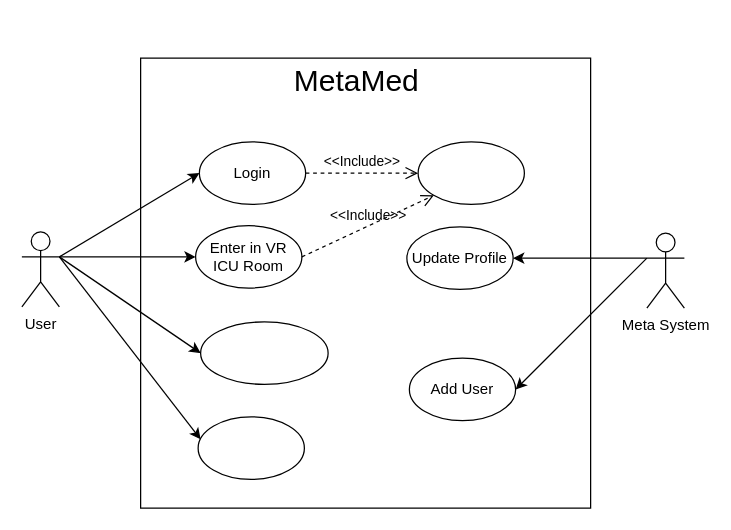
This 731x530 diagram has some shape labels left out. Each missing label, with the box of its shape:
Authentication: (417, 141, 524, 204)
Logout: (197, 416, 304, 479)
Perform Training: (199, 321, 328, 384)
